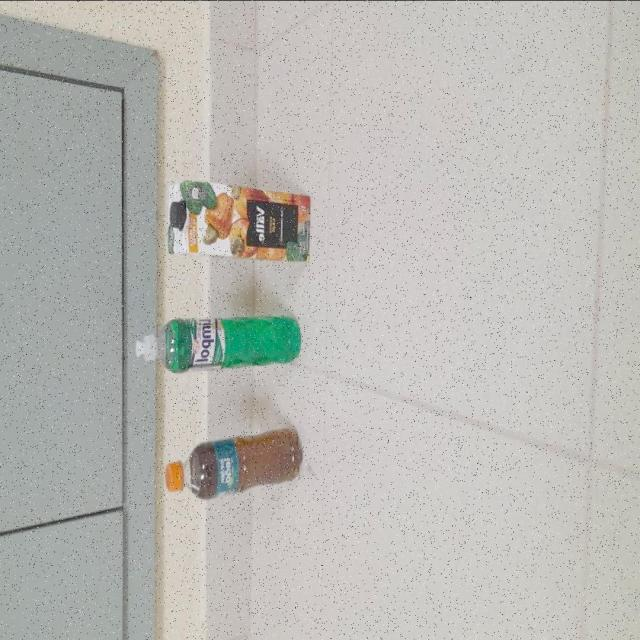Cleaner: (136, 314, 304, 373)
IceTea: (166, 426, 305, 501)
